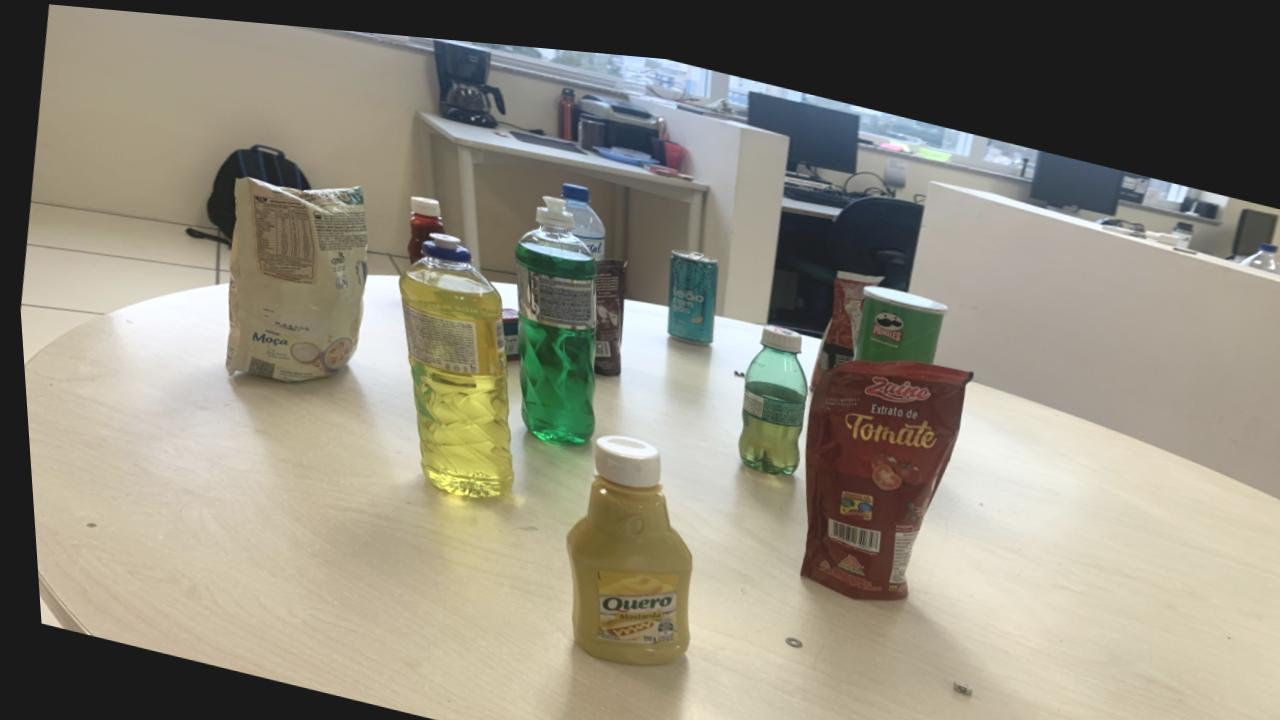Coffee-Pantry_Items: (590, 247, 624, 365)
Detergent-Cleanup_Items: (394, 225, 507, 489), (512, 186, 593, 435)
Flakes-Snacks: (220, 173, 365, 377)
Guarana-Drinks: (732, 311, 803, 460)
Ketchup-Pantry_Items: (404, 188, 442, 254)
Mustard-Pantry_Items: (558, 424, 685, 654)
Pringles-Snacks: (849, 268, 944, 347)
Tea-Drinks: (663, 237, 716, 332)
Tomato_Sauce-Pantry_Items: (793, 344, 968, 584), (805, 254, 881, 373)
Water_Bottle-Drinks: (560, 172, 603, 248)
